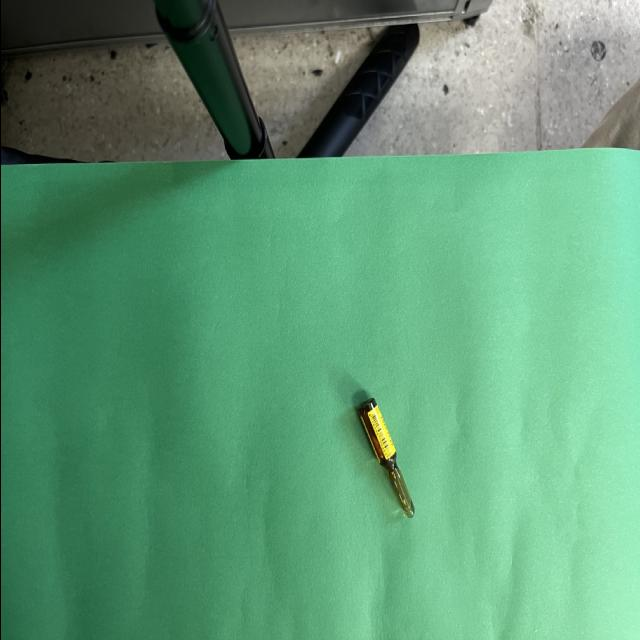Ampoules: (356, 398, 414, 517)
